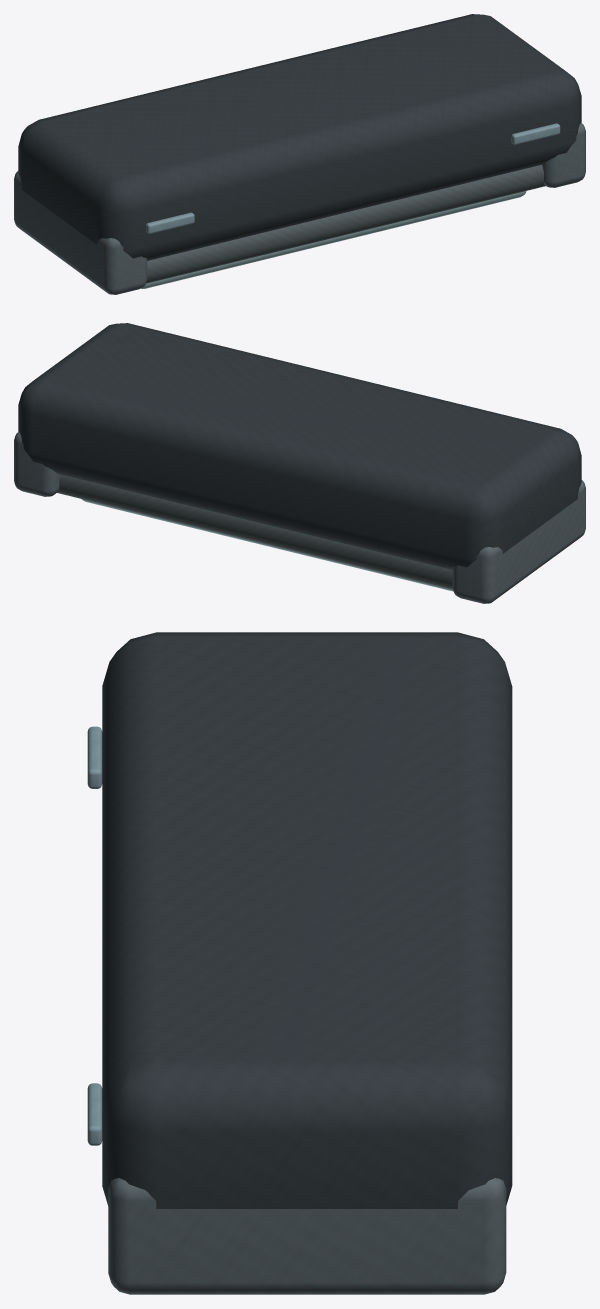
The model's file is CeilingLight.fbx.
The picture shows the model from 3 angles, top to bottom: view 1: azimuth 30°, elevation 25°; view 2: azimuth 150°, elevation 25°; view 3: azimuth 270°, elevation 25°; orthographic projection. The views are drawn at different scales.
Visible parts, largest first — view 1: CeilingLight_Mesh; view 2: CeilingLight_Mesh; view 3: CeilingLight_Mesh.
Boxes of the visible parts, x1,y1,x2,y2 form: CeilingLight_Mesh: [14, 14, 585, 294]; CeilingLight_Mesh: [14, 323, 585, 603]; CeilingLight_Mesh: [87, 632, 512, 1294].
Size of the model in its own units: 92 by 23.6 by 35.2.
